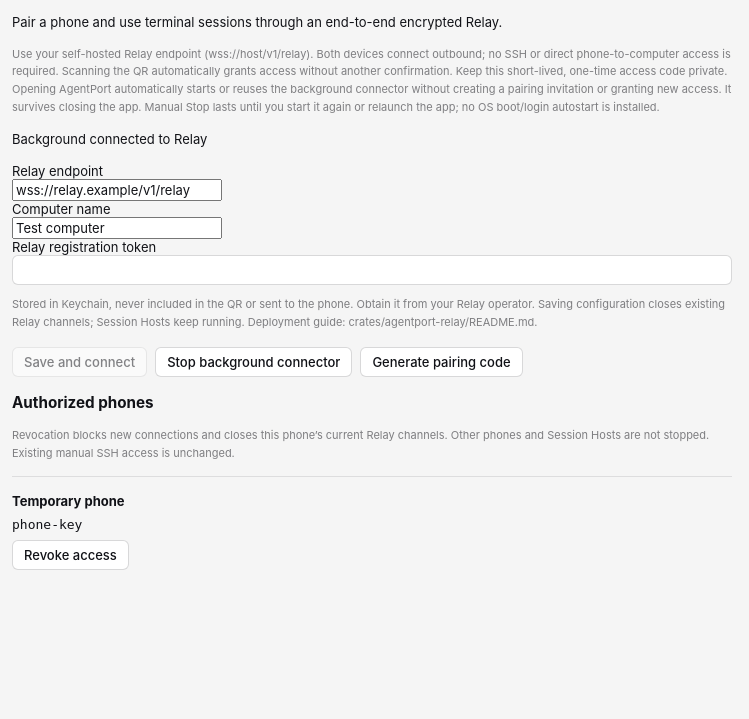
drops the pairing link together with the invitation
Expected: the text "Background connected to Relay" is shown, 12,131 -> 207,147
Click the button "Generate pairing code".
click(442, 362)  # box 360,347 -> 523,377
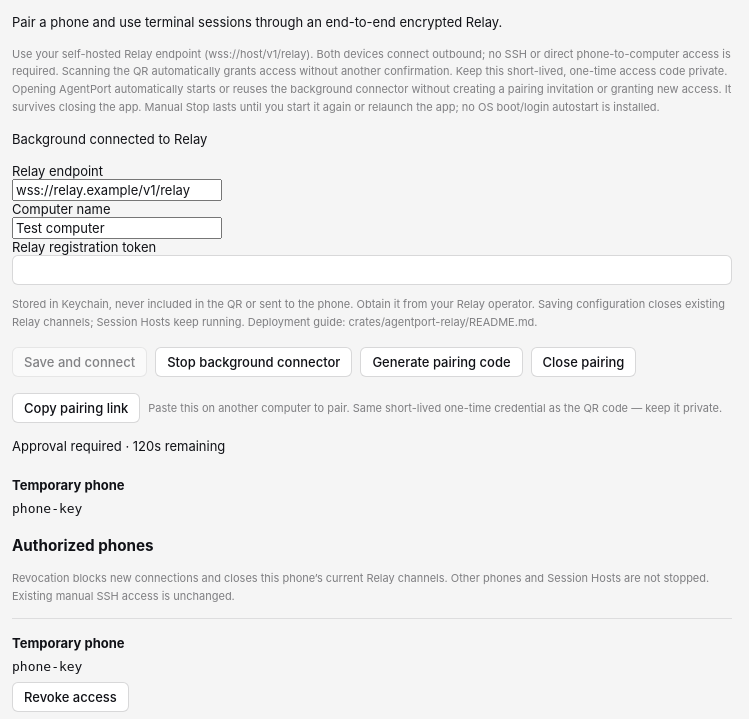
Expected: the button "Copy pairing link" is shown, 12,393 -> 140,423
Click the button "Close pairing".
click(584, 362)  # box 531,347 -> 636,377
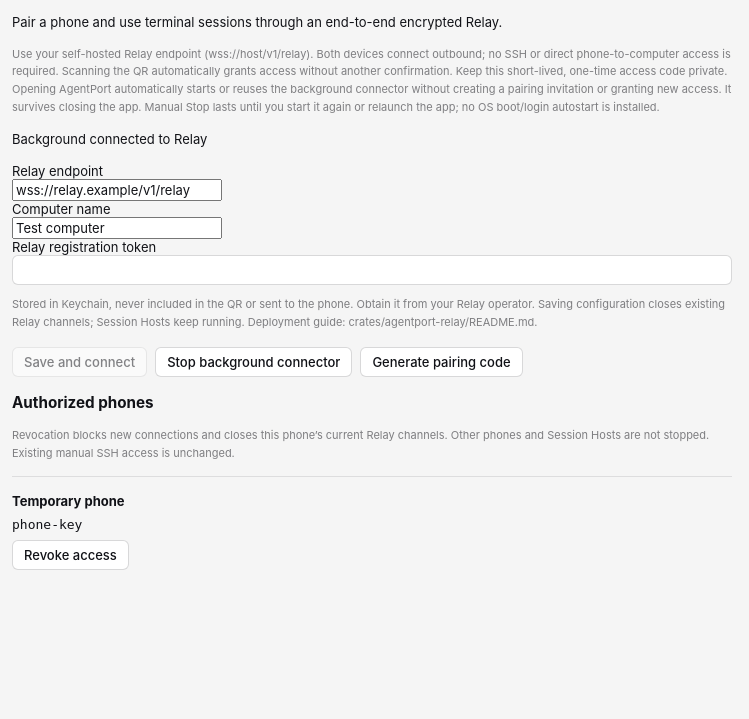
Expected: the button "Copy pairing link" is gone
